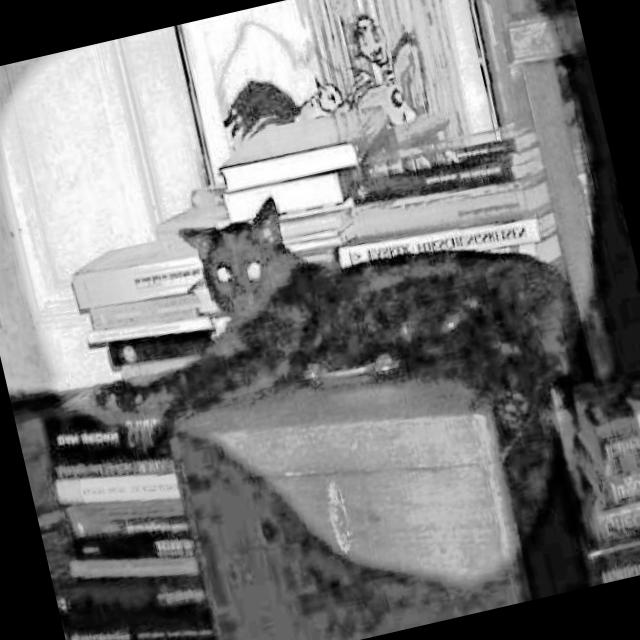Cat: (78, 131, 599, 519)
